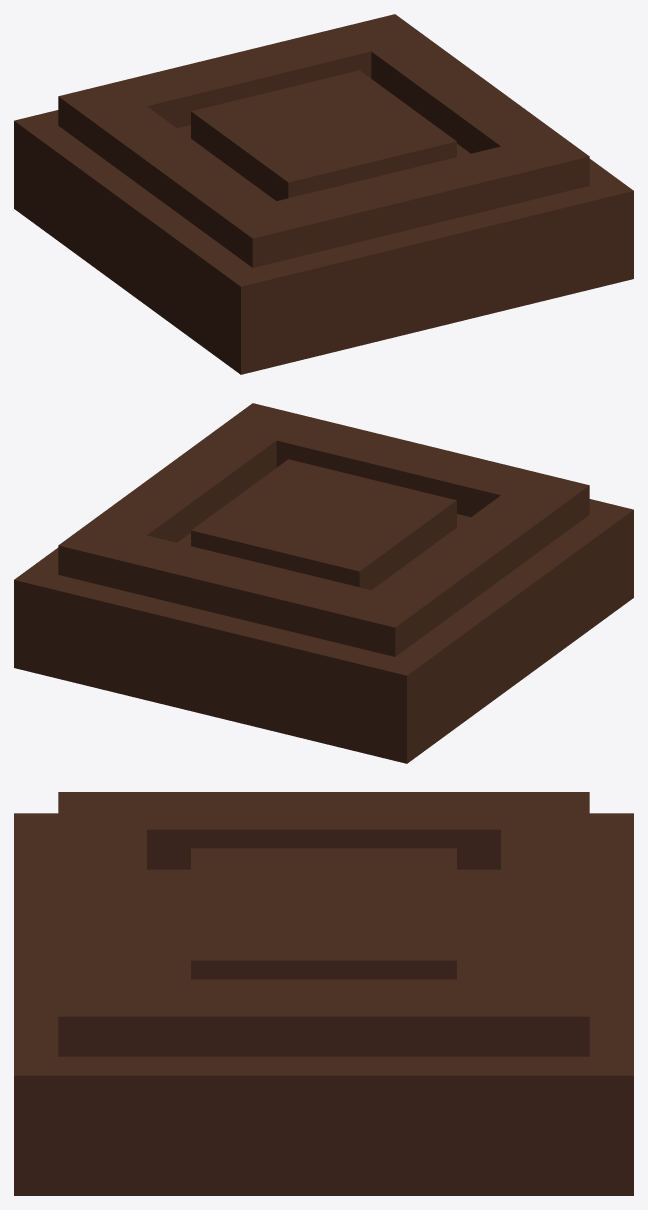
Rendered from man-v3-brown.gltf.
The picture shows the model from 3 angles, top to bottom: view 1: azimuth 30°, elevation 25°; view 2: azimuth 150°, elevation 25°; view 3: azimuth 270°, elevation 25°; orthographic projection. The views are drawn at different scales.
Parts seen in each view (by area): view 1: Untitled; view 2: Untitled; view 3: Untitled.
Part boxes in pixels (<box>): Untitled: <box>14,14,633,374</box>; Untitled: <box>14,403,633,763</box>; Untitled: <box>14,792,633,1195</box>.
Bounding box in the file's own units: 1.4 × 0.4 × 1.4.
1 material, 1 textured.
